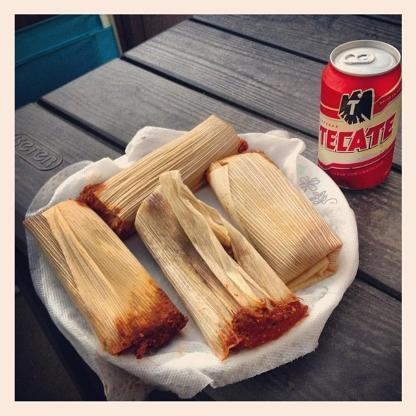Can: (316, 39, 402, 191)
